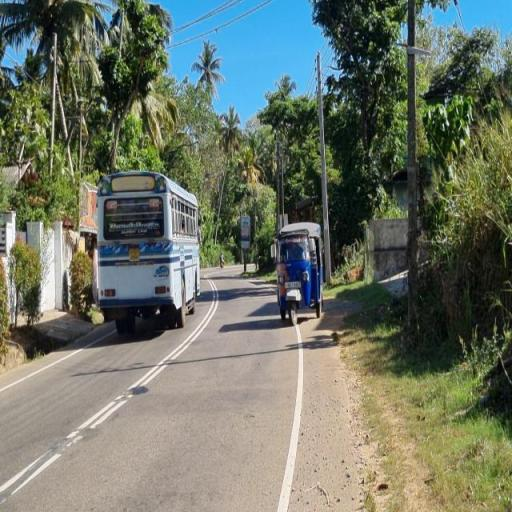double_white_line: (62, 276, 215, 446)
